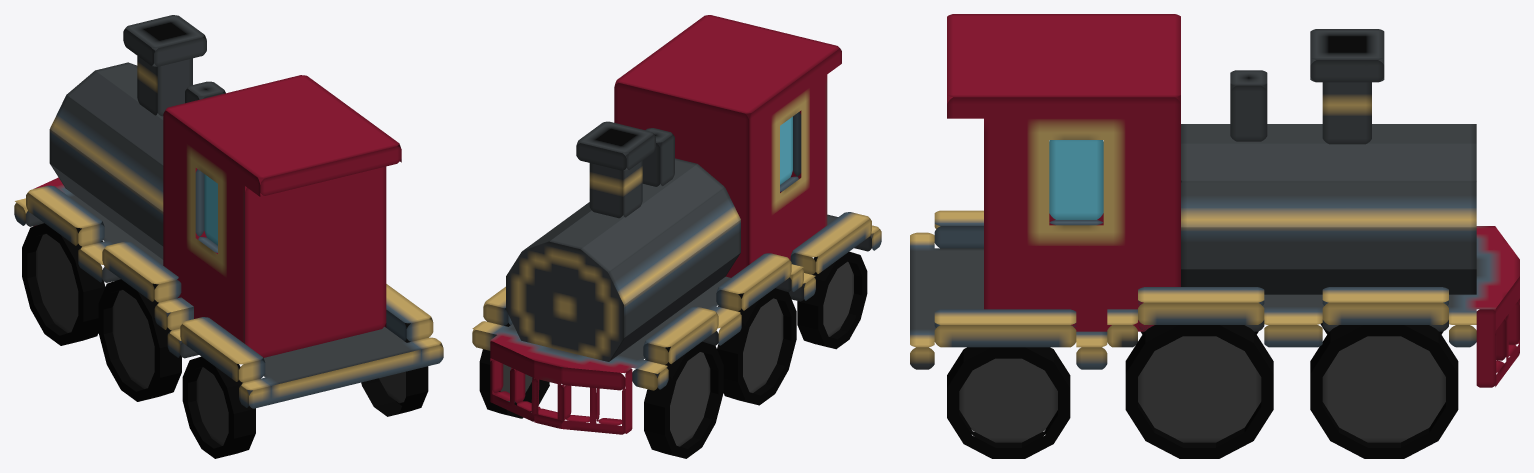
Rendered from train1.1.obj.
The picture shows the model from 3 angles, left to right: view 1: azimuth 30°, elevation 25°; view 2: azimuth 150°, elevation 25°; view 3: azimuth 270°, elevation 25°; orthographic projection. The views are drawn at different scales.
Parts seen in each view (by area): view 1: mesh, cylinder, 1_L, 2_L, 3_L, 3_R; view 2: mesh, cylinder, 1_L, 2_L, 3_L, 1_R; view 3: mesh, cylinder, 1_R, 2_R, 3_R.
Part boxes in pixels (<box>): mesh: <box>14,15,443,408</box>; cylinder: <box>49,62,163,259</box>; 1_L: <box>22,223,105,345</box>; 2_L: <box>98,279,181,401</box>; 3_L: <box>182,356,255,458</box>; 3_R: <box>361,322,428,416</box>; mesh: <box>472,15,881,434</box>; cylinder: <box>506,158,740,367</box>; 1_L: <box>644,341,723,458</box>; 2_L: <box>717,288,796,405</box>; 3_L: <box>797,251,867,349</box>; 1_R: <box>479,308,549,418</box>; mesh: <box>910,14,1519,387</box>; cylinder: <box>1181,124,1476,294</box>; 1_R: <box>1310,325,1458,458</box>; 2_R: <box>1125,325,1273,458</box>; 3_R: <box>947,347,1070,458</box>.
Size of the model in its own units: 1.38 by 2 by 3.09.
3 materials, 3 textured.
